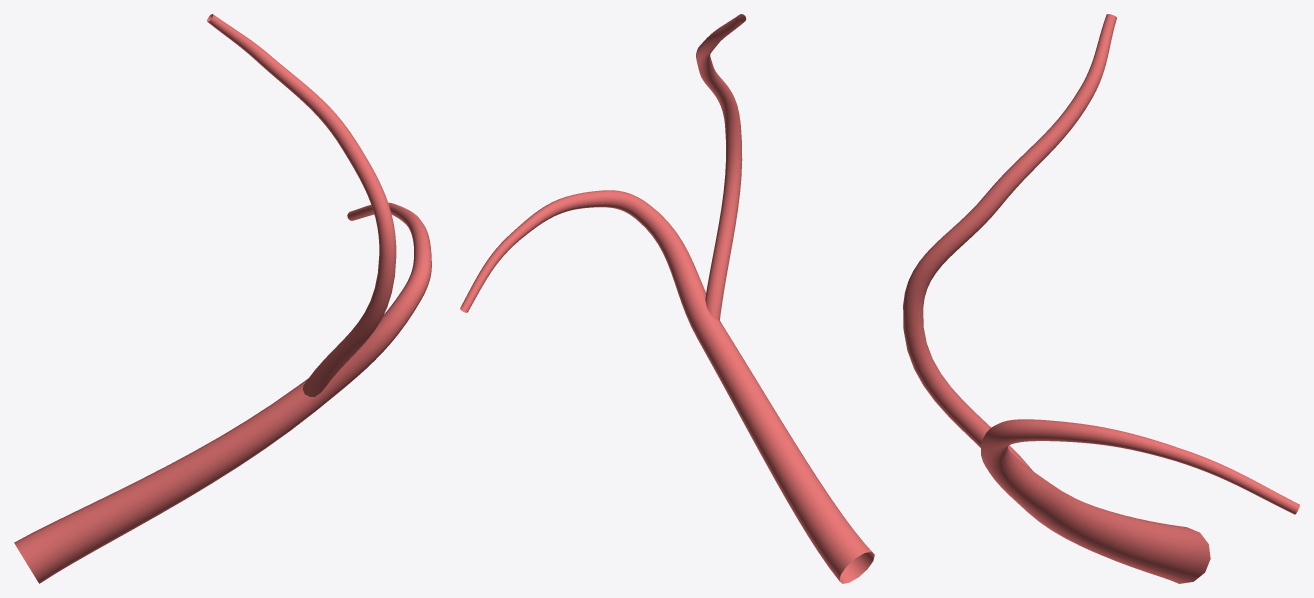
Rendered from Anterior_circumflex_humeral_artery.l_BezierCurve.131.glb.
The picture shows the model from 3 angles, left to right: view 1: azimuth 30°, elevation 25°; view 2: azimuth 150°, elevation 25°; view 3: azimuth 270°, elevation 25°; orthographic projection. The views are drawn at different scales.
Parts seen in each view (by area): view 1: Anterior_circumflex_humeral_artery.l_BezierCurve.131; view 2: Anterior_circumflex_humeral_artery.l_BezierCurve.131; view 3: Anterior_circumflex_humeral_artery.l_BezierCurve.131.
Part boxes in pixels (box(x1,y1,x2,y2)): Anterior_circumflex_humeral_artery.l_BezierCurve.131: box(14, 14, 431, 583); Anterior_circumflex_humeral_artery.l_BezierCurve.131: box(460, 14, 874, 583); Anterior_circumflex_humeral_artery.l_BezierCurve.131: box(903, 14, 1299, 583).
Bounding box in the file's own units: 0.0463 × 0.0629 × 0.0346.
